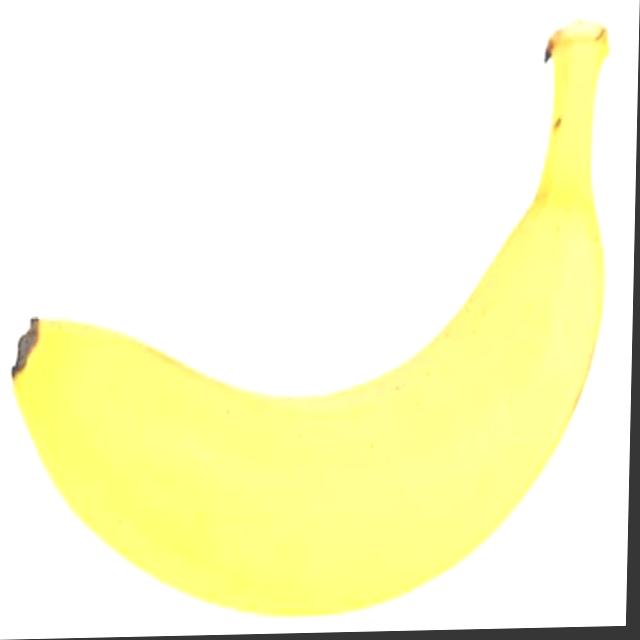banana: (0, 37, 626, 631)
